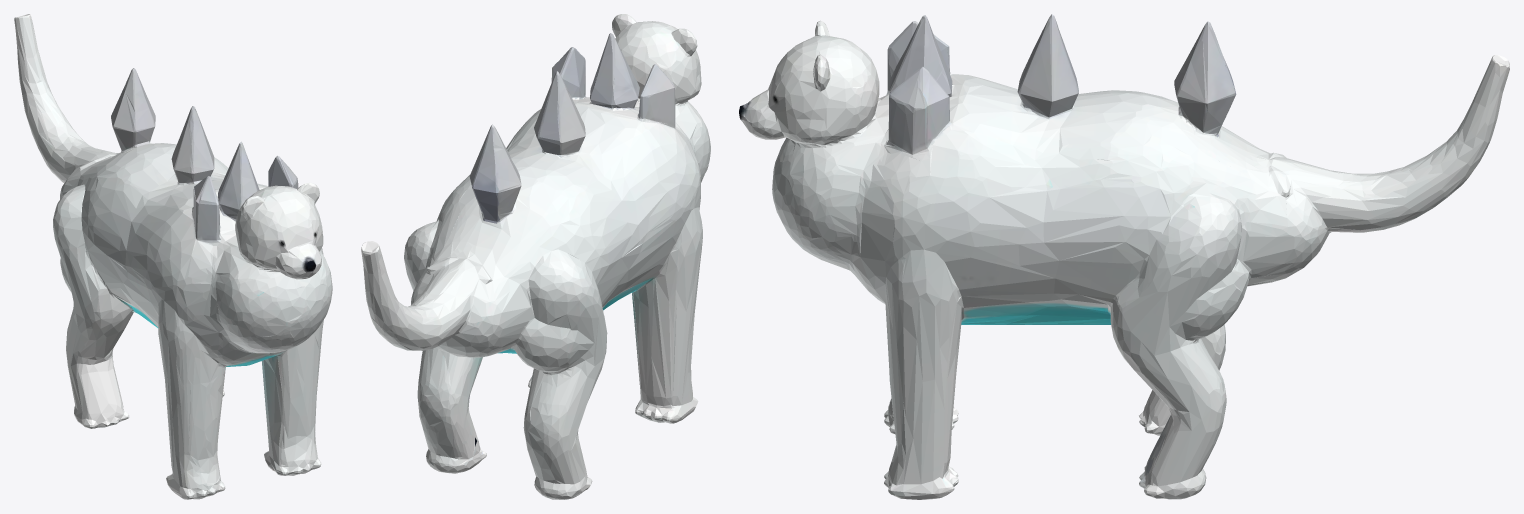
The model's file is creature-133.lod.glb.
3 renders of one model, left to right at view 1: azimuth 30°, elevation 25°; view 2: azimuth 150°, elevation 25°; view 3: azimuth 270°, elevation 25°, orthographic. The views are drawn at different scales.
Parts seen in each view (by area): view 1: tmp1br07bvx.ply; view 2: tmp1br07bvx.ply; view 3: tmp1br07bvx.ply.
Part boxes in pixels (bbox=[...]): tmp1br07bvx.ply: bbox=[14, 14, 332, 499]; tmp1br07bvx.ply: bbox=[361, 14, 710, 499]; tmp1br07bvx.ply: bbox=[739, 14, 1509, 499].
Bounding box in the file's own units: 0.6581 × 1.28 × 1.99.
1 material, 1 textured.
